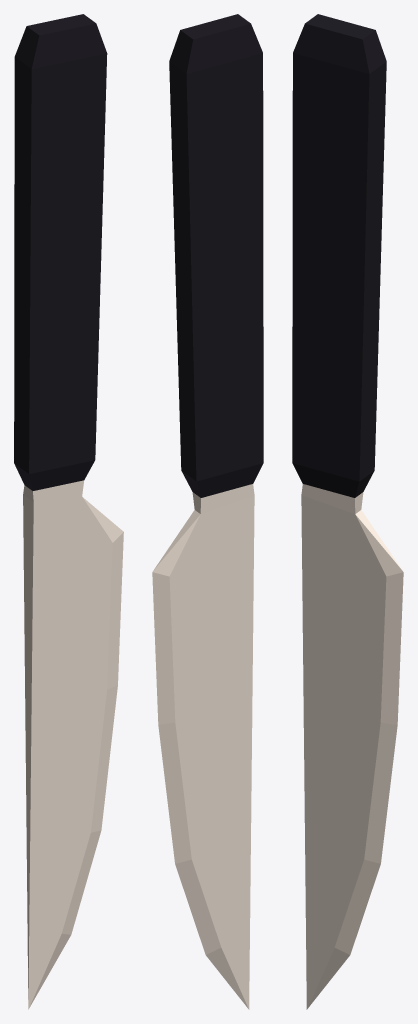
The model's file is Knife.fbx.
3 views of the same model, side by side, from view 1: azimuth 30°, elevation 25°; view 2: azimuth 210°, elevation 25°; view 3: azimuth 330°, elevation 25° (orthographic).
Visible parts, largest first — view 1: Knife; view 2: Knife; view 3: Knife.
Part boxes in pixels (x1=…): Knife: x1=14, y1=14, x2=123, y2=1009; Knife: x1=152, y1=14, x2=263, y2=1009; Knife: x1=292, y1=14, x2=403, y2=1009.
Bounding box in the file's own units: 98.97 × 904 × 28.56.
